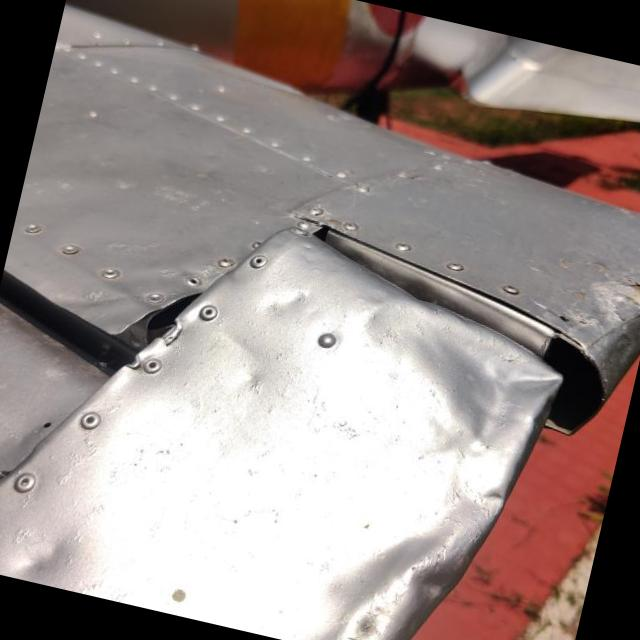Dent: (408, 304, 562, 513), (293, 520, 491, 640), (0, 492, 91, 593)
